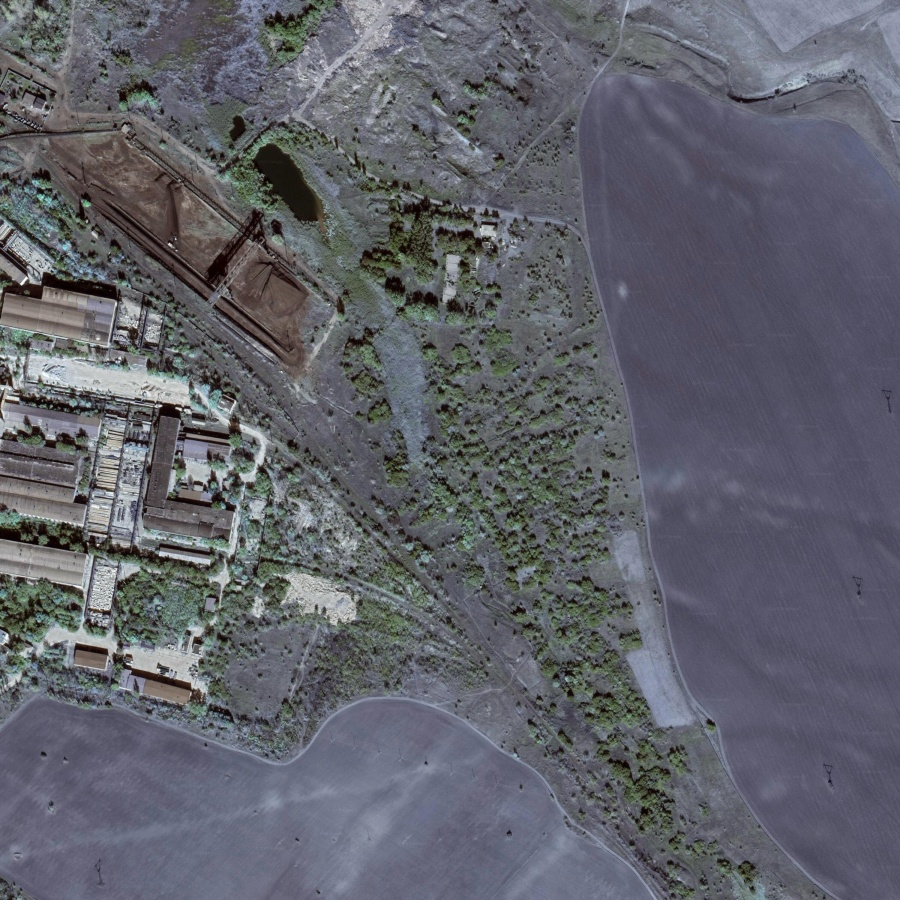PowerPlant: (24, 113, 314, 366)
